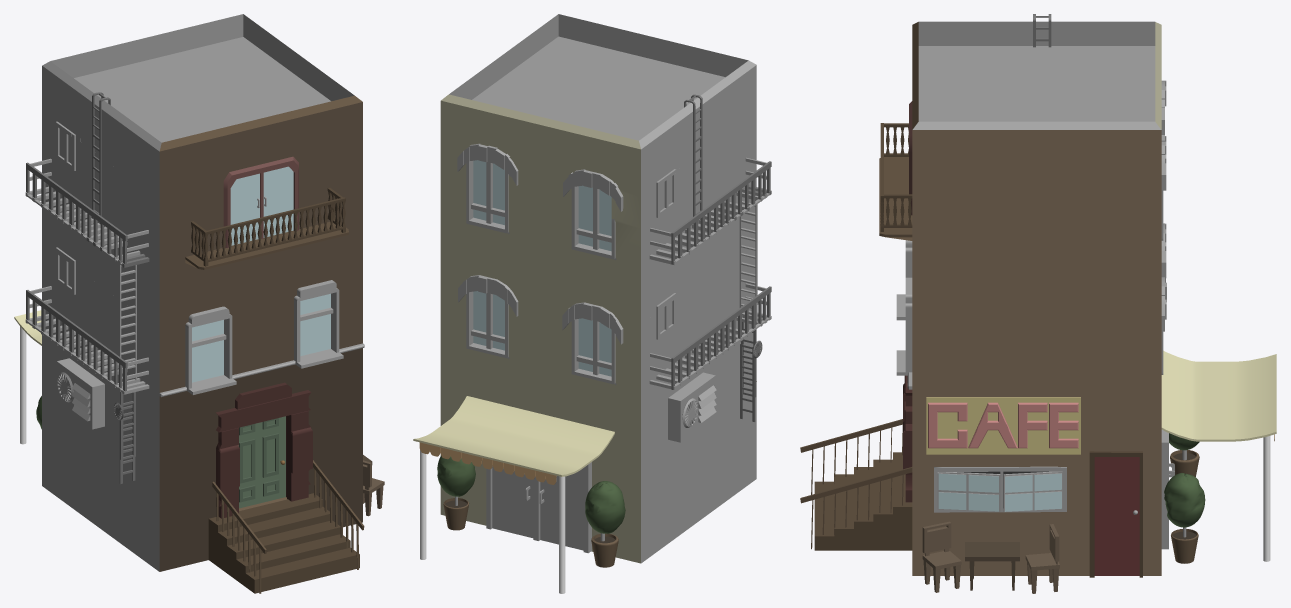
File: Building 2 FBX.fbx
The picture shows the model from 3 angles, left to right: view 1: azimuth 30°, elevation 25°; view 2: azimuth 150°, elevation 25°; view 3: azimuth 270°, elevation 25°; orthographic projection. The views are drawn at different scales.
Parts seen in each view (by area): view 1: building1; view 2: building1; view 3: building1.
Boxes of the visible parts, left/top/right/bottom form: building1: left=14, top=14, right=384, bottom=593; building1: left=413, top=14, right=771, bottom=593; building1: left=800, top=14, right=1276, bottom=593.
Bounding box in the file's own units: 5.16 × 8.12 × 7.64.
